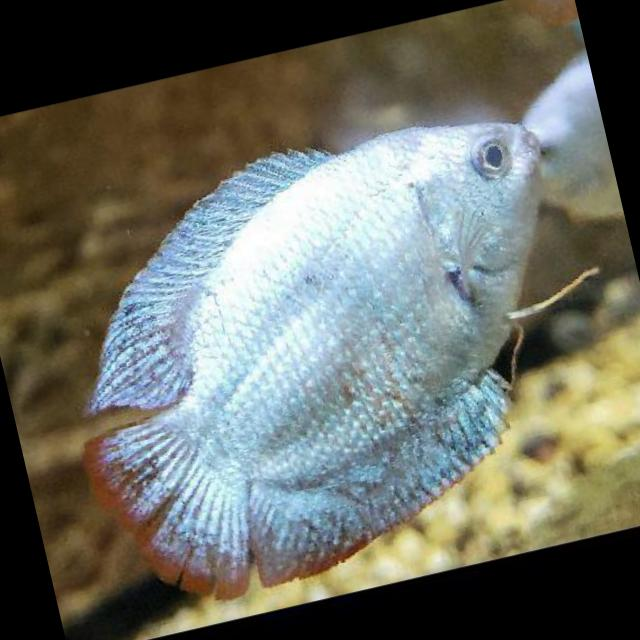Gourami: (27, 92, 624, 638)
